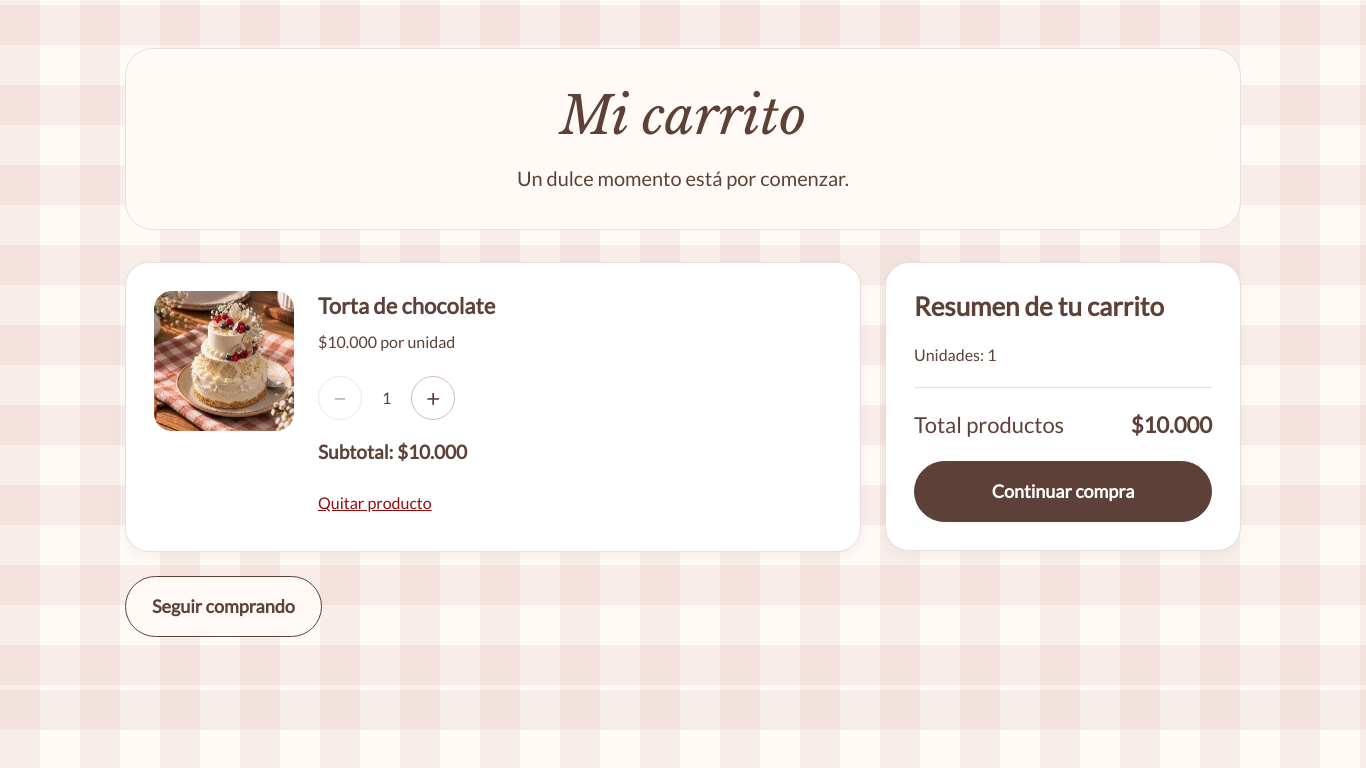
Test: Carrito › muestra el carrito vacío al quitar el último producto
This screenshot has width=1366, height=768.
Step 1. Click the button "Quitar producto" → (375, 503), box [318,483,432,523]
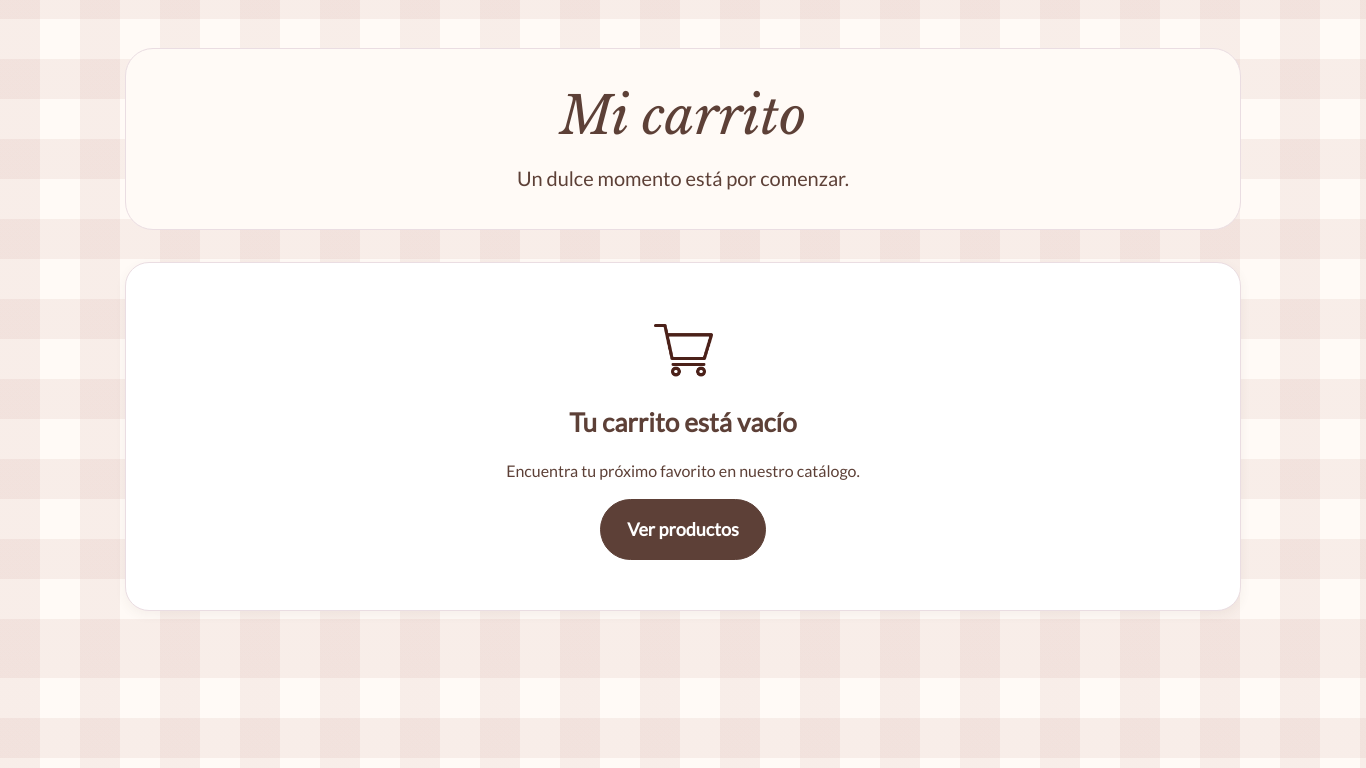
Expected: the heading "Tu carrito está vacío" is shown, [569,406,797,438]
